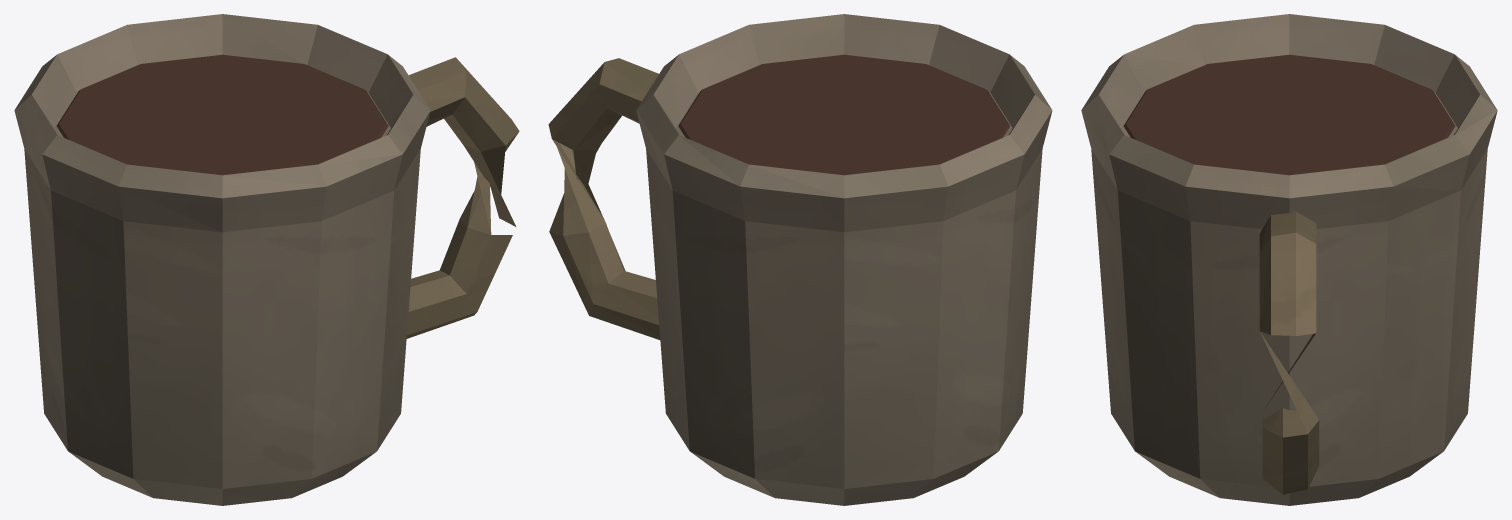
File: tasting_cup.gltf
3 views of the same model, side by side, from view 1: azimuth 30°, elevation 25°; view 2: azimuth 150°, elevation 25°; view 3: azimuth 270°, elevation 25° (orthographic).
Parts seen in each view (by area): view 1: tasting_cup; view 2: tasting_cup; view 3: tasting_cup.
Part boxes in pixels (x1,y1,x2,y2): tasting_cup: (14, 14, 519, 505); tasting_cup: (548, 14, 1052, 505); tasting_cup: (1081, 14, 1497, 505).
Size of the model in its own units: 0.2203 by 0.157 by 0.168.
3 materials, 2 textured.
